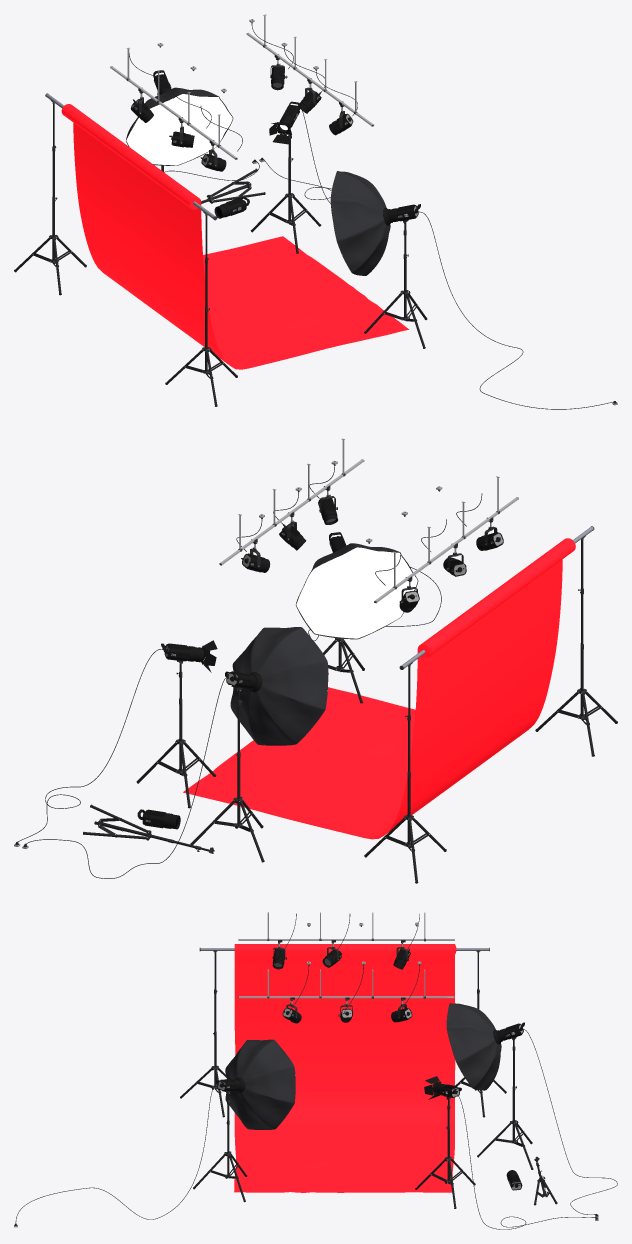
Rendered from studio.glb.
3 renders of one model, top to bottom at view 1: azimuth 30°, elevation 25°; view 2: azimuth 150°, elevation 25°; view 3: azimuth 270°, elevation 25°, orthographic. The views are drawn at different scales.
Visible parts, largest first — view 1: Studio Setup_Backdrop_1, Studio Setup_Softbox_Diffuser_2, Studio Setup_Softbox_1, Studio Setup_Backdrop_Axis_1, Studio Setup_Rail_2, Studio Setup_Rail_1, Studio Setup_Softbox_2; view 2: Studio Setup_Backdrop_1, Studio Setup_Softbox_2, Studio Setup_Softbox_Diffuser_1, Studio Setup_Backdrop_Axis_1, Studio Setup_Rail_1, Studio Setup_Rail_2, Studio Setup_Softbox_1, Studio Setup_Spotlight_4, Studio Setup_Spotlight_1; view 3: Studio Setup_Backdrop_1, Studio Setup_Softbox_1, Studio Setup_Softbox_2, Studio Setup_Rail_1, Studio Setup_Rail_2, Studio Setup_Backdrop_Axis_1.
Part boxes in pixels (x1=…): Studio Setup_Backdrop_1: x1=68, y1=104, x2=408, y2=369; Studio Setup_Softbox_Diffuser_2: x1=126, y1=94, x2=232, y2=165; Studio Setup_Softbox_1: x1=330, y1=171, x2=390, y2=275; Studio Setup_Backdrop_Axis_1: x1=45, y1=93, x2=217, y2=220; Studio Setup_Rail_2: x1=110, y1=47, x2=237, y2=159; Studio Setup_Rail_1: x1=246, y1=14, x2=373, y2=126; Studio Setup_Softbox_2: x1=126, y1=87, x2=233, y2=165; Studio Setup_Backdrop_1: x1=183, y1=538, x2=568, y2=839; Studio Setup_Softbox_2: x1=230, y1=627, x2=328, y2=745; Studio Setup_Softbox_Diffuser_1: x1=296, y1=547, x2=417, y2=638; Studio Setup_Backdrop_Axis_1: x1=399, y1=526, x2=594, y2=669; Studio Setup_Rail_1: x1=219, y1=438, x2=364, y2=565; Studio Setup_Rail_2: x1=374, y1=476, x2=518, y2=603; Studio Setup_Softbox_1: x1=296, y1=543, x2=418, y2=639; Studio Setup_Spotlight_4: x1=137, y1=809, x2=180, y2=829; Studio Setup_Spotlight_1: x1=161, y1=643, x2=202, y2=661; Studio Setup_Backdrop_1: x1=234, y1=944, x2=455, y2=1192; Studio Setup_Softbox_1: x1=225, y1=1039, x2=295, y2=1129; Studio Setup_Softbox_2: x1=446, y1=1003, x2=501, y2=1090; Studio Setup_Rail_1: x1=238, y1=969, x2=454, y2=998; Studio Setup_Rail_2: x1=238, y1=912, x2=454, y2=941; Studio Setup_Backdrop_Axis_1: x1=199, y1=944, x2=489, y2=954.
Size of the model in its own units: 4.25 by 3.03 by 7.85.
17 materials, 1 textured.
